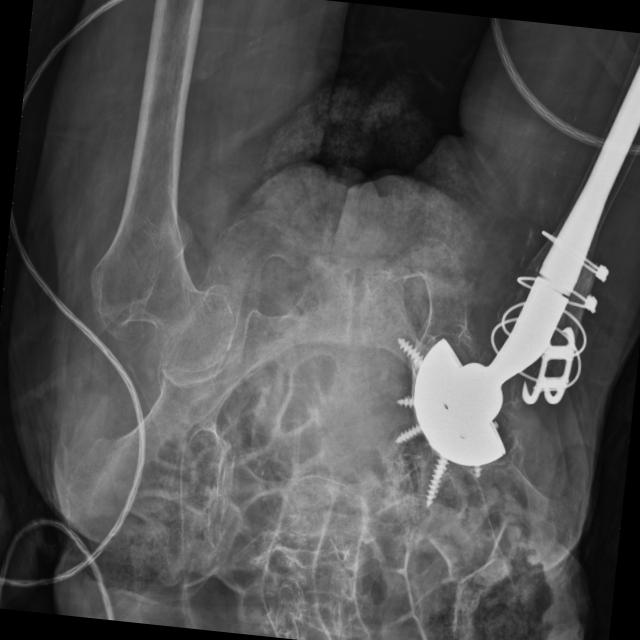normal-left: (90, 162, 233, 370)
